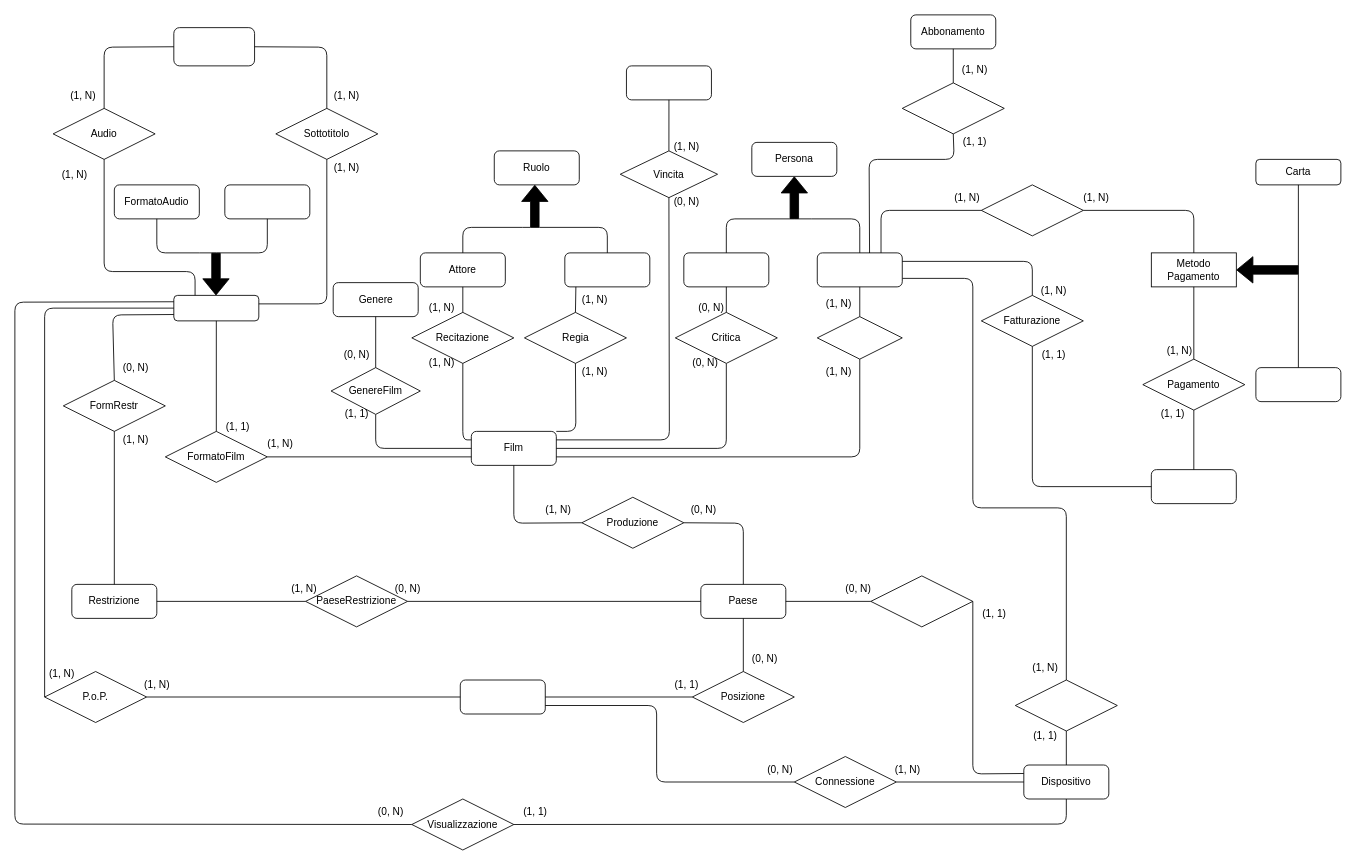
The diagram is 1356 pixels wide and 865 high, and some of its shapes have lost their labels. Here are the shapes that lost their labels. From the top down, the centre of each, then its label:
At [214,46]: "Lingua".
At [668,82]: "Premio".
At [952,108]: "AbbonamUtente".
At [267,201]: "Formato Video".
At [1031,210]: "Preferenza".
At [607,269]: "Regista".
At [726,269]: "Critico".
At [859,269]: "Utente".
At [216,308]: "Formato".
At [859,337]: "Recensione".
At [1298,384]: "PayPal".
At [1193,486]: "Fattura".
At [921,601]: "Geolocalizzazione".
At [502,696]: "Server".
At [1065,705]: "Utilizzo".
